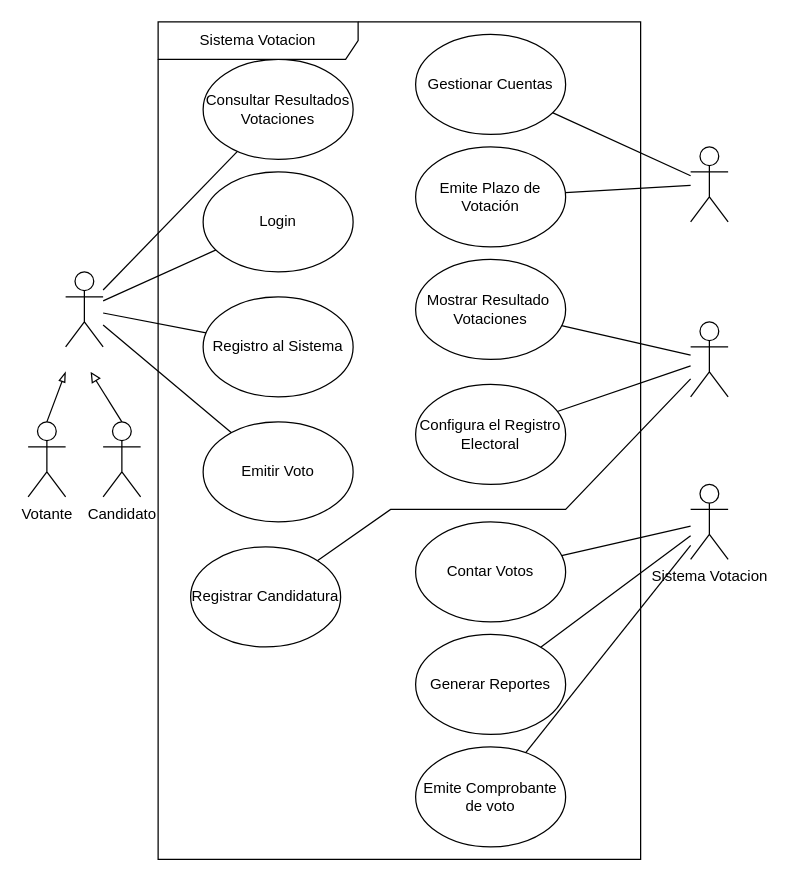
Some shapes in this 789 by 881 pixel diagram are drawn without their labels. The box of each missing label's shape, as (x1, y1, x2, y2) in pixels:
Administrador: (689, 146, 728, 222)
Tribunal Electoral: (689, 321, 728, 397)
Usuario: (64, 271, 103, 347)
